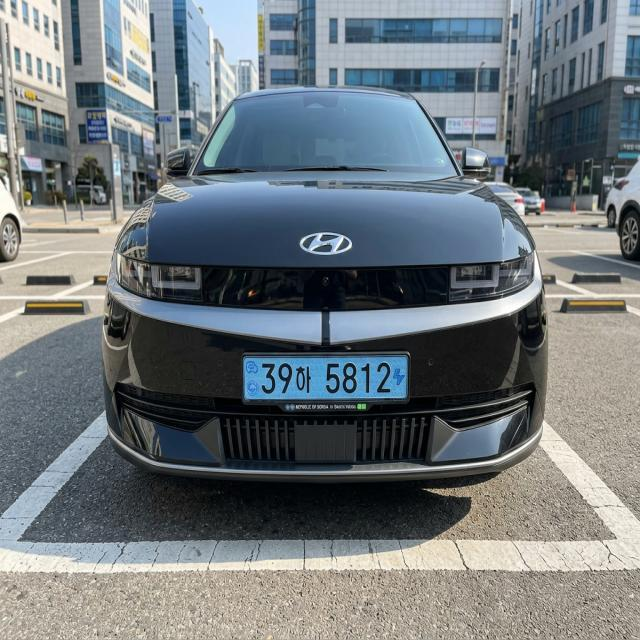car: (242, 346, 412, 425)
carev: (242, 356, 261, 402), (391, 363, 406, 393)
